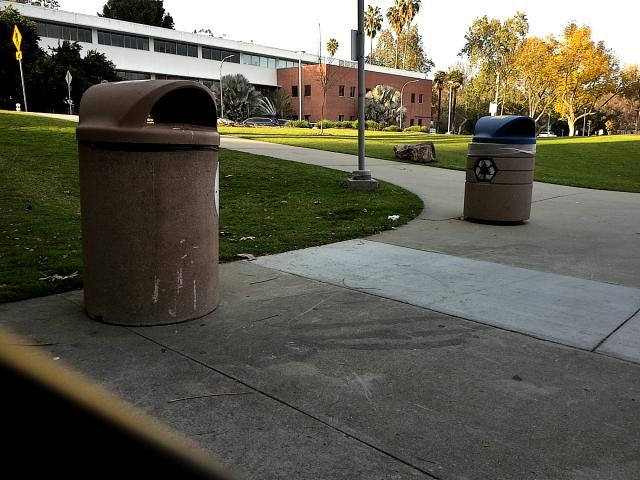trashcan: (75, 76, 229, 324), (463, 106, 539, 241)
